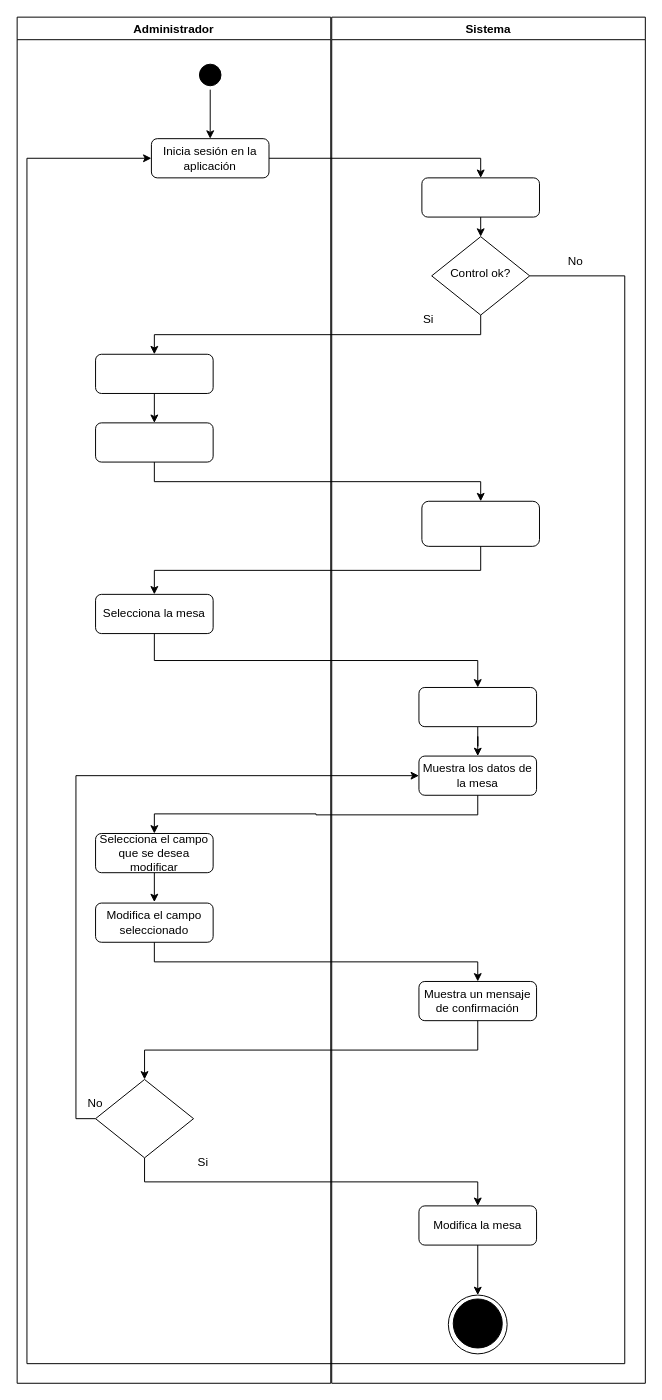
The diagram is 662 pixels wide and 1400 high, and some of its shapes have lost their labels. The box of each missing label's shape, as (x1, y1, x2, y2) in pixels:
Acepta?: (95, 1078, 194, 1158)
Controla los datos: (421, 177, 539, 217)
Ingresa al menú principal: (95, 353, 213, 393)
Muestra todas las mesas: (421, 500, 539, 546)
Recupera la información de la mesa: (418, 686, 537, 727)
Selecciona la opción "Modificar Mesa": (95, 422, 213, 462)
